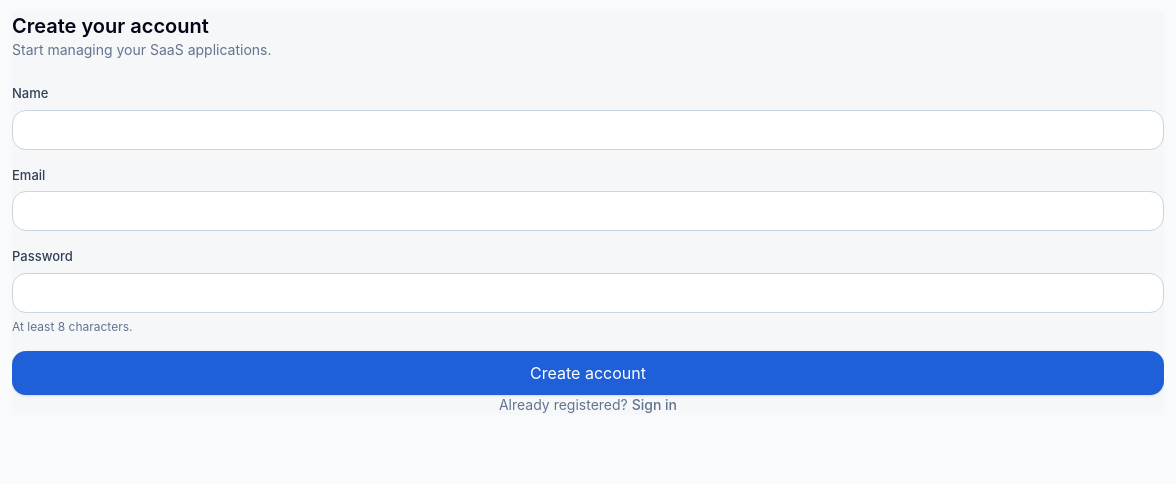
RegisterPage error handling › falls back to the generic message for a non-Error rejection
Type "Jane Doe" into the field labelled "Name" at (588, 130), box [12,110,1164,150]
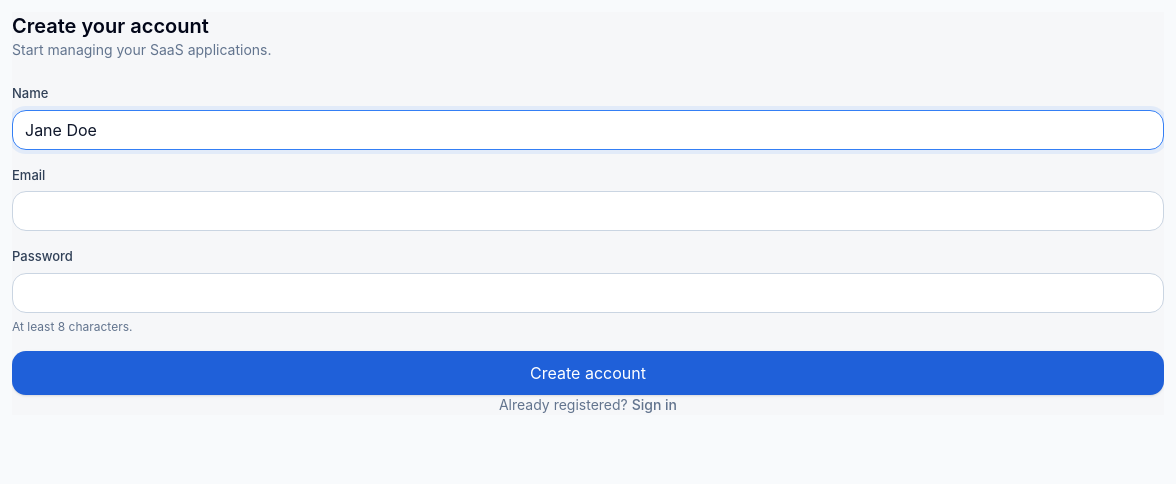
Type "  new@example.com  " into the field labelled "Email" at (588, 211), box [12,191,1164,231]
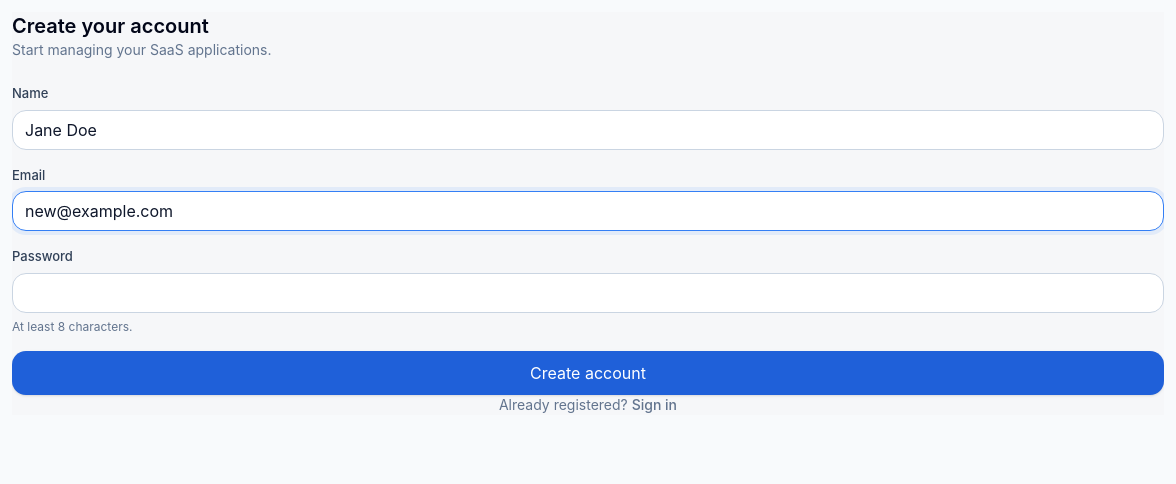
Type "Password123!" into the password field labelled "Password" at (588, 292), box [12,272,1164,312]
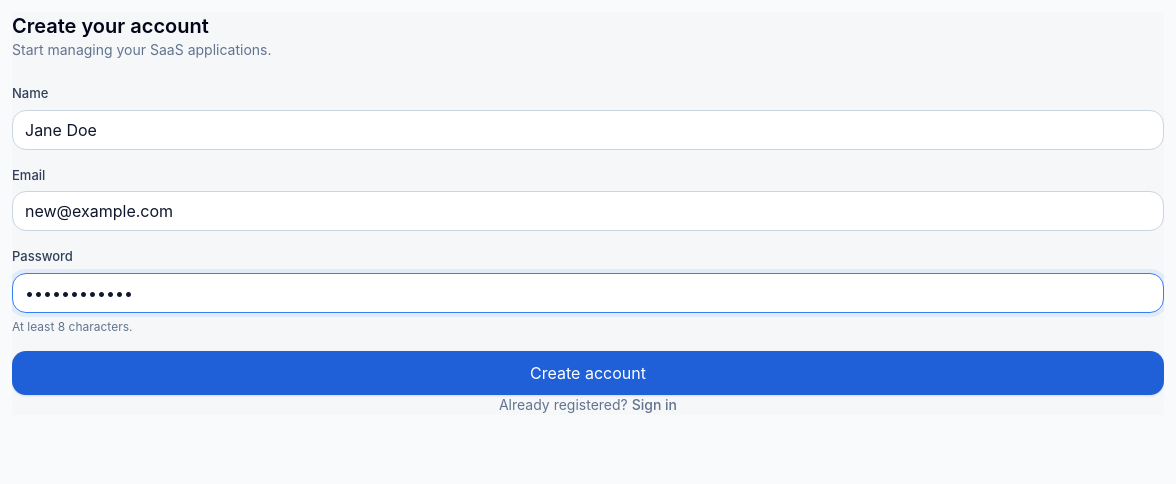
Click the button "Create account" at (588, 372), box [12,350,1164,394]
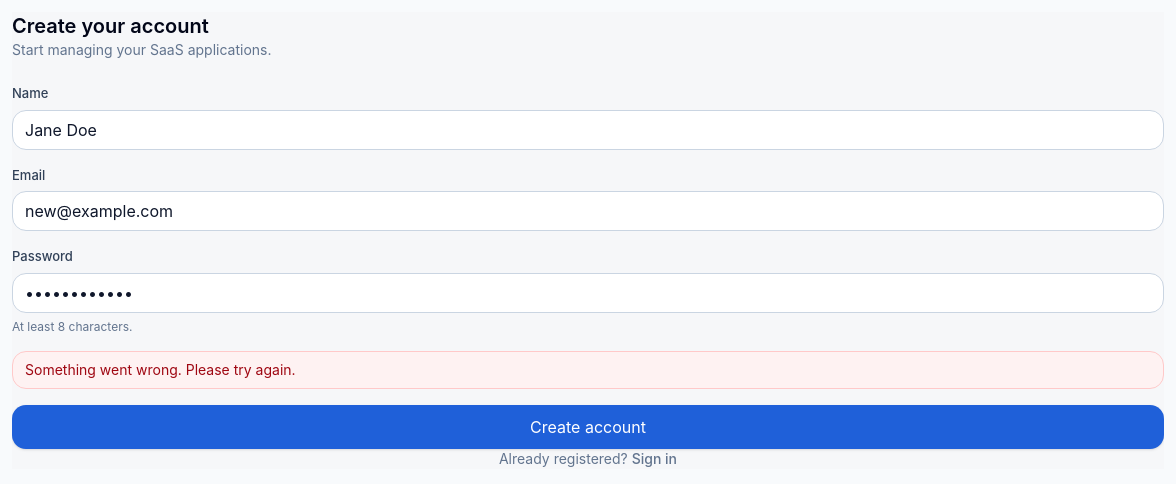
expect the message reads "Something went wrong. Please try again.": met, box [25,360,296,378]
